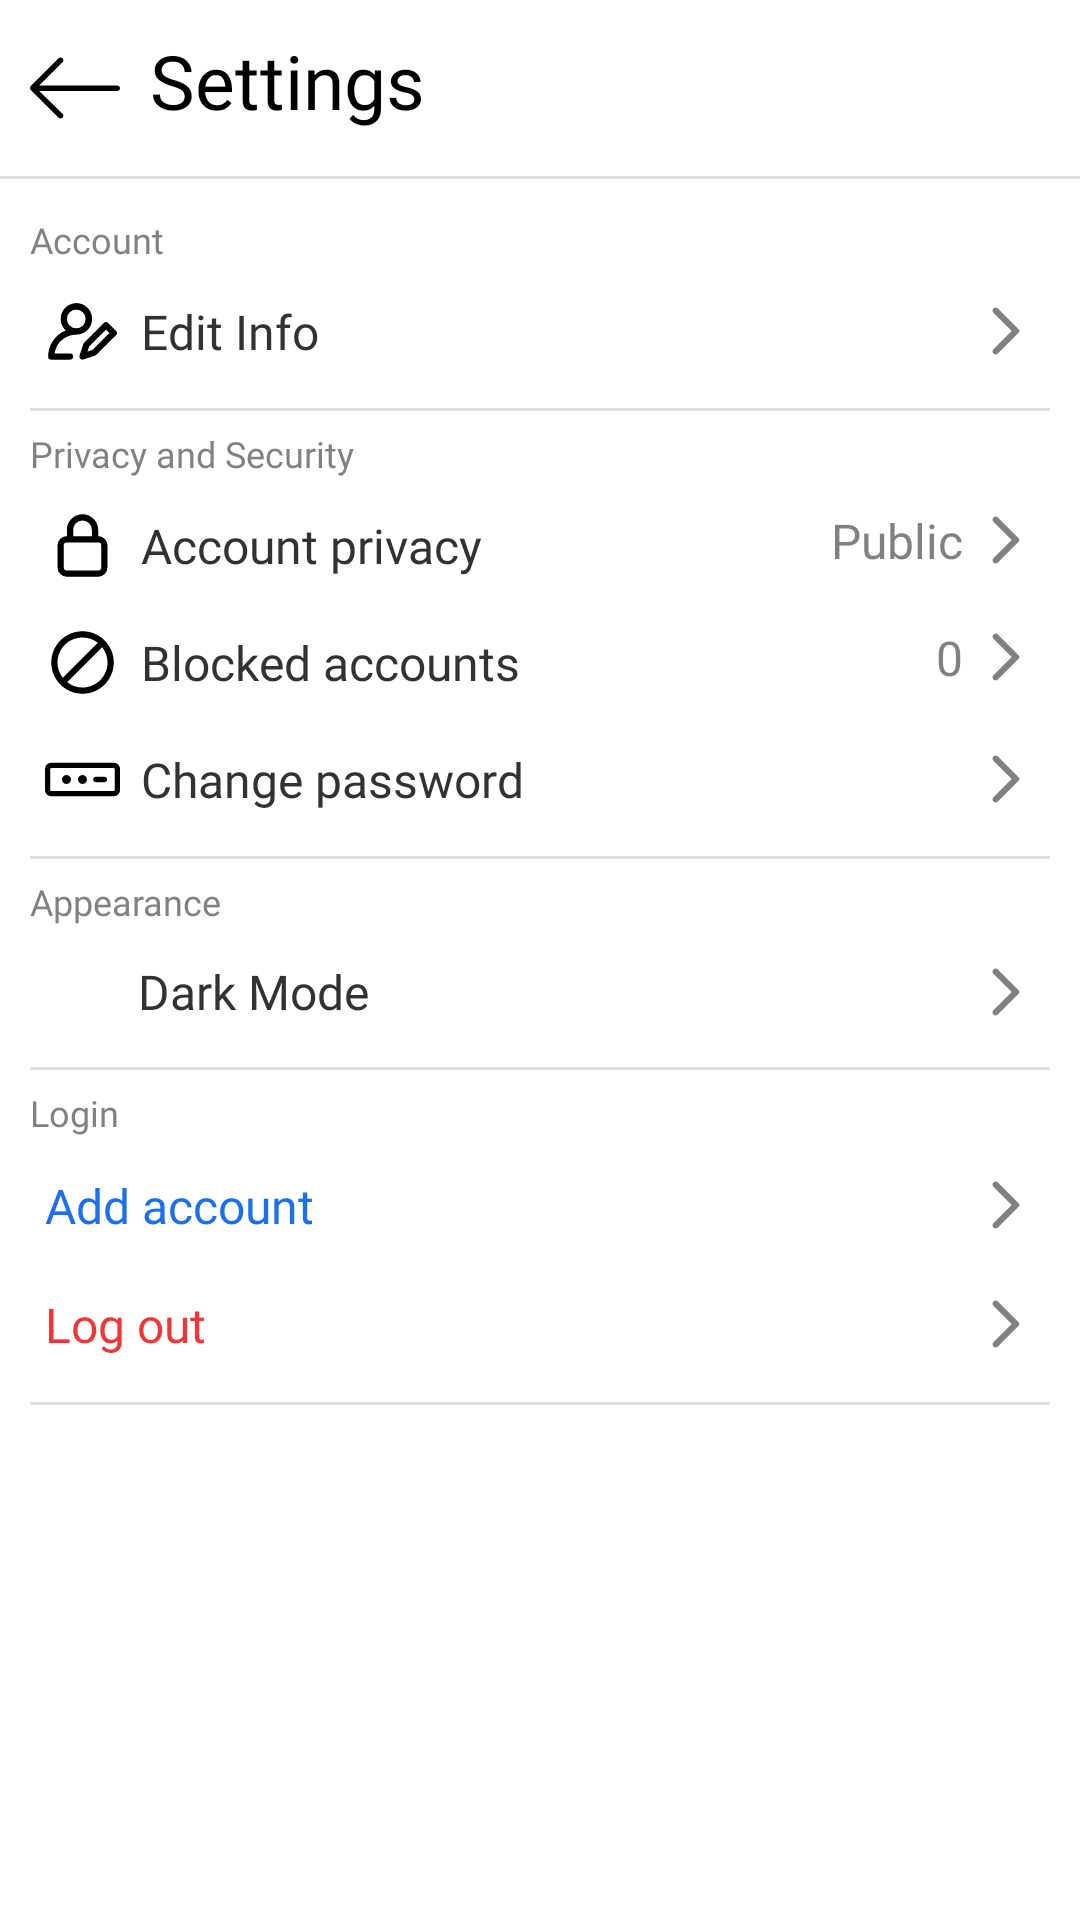

Point at icon controls on the screen. Image size 1080x1920, points as point (x, y).
back: point (75, 88)
